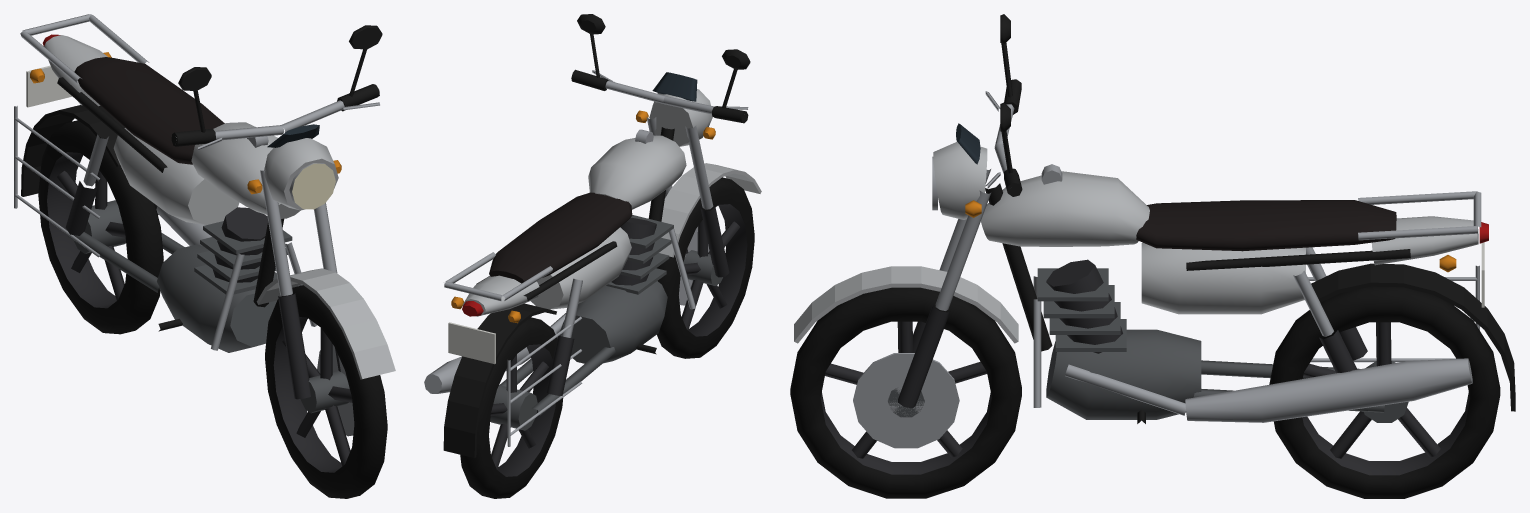
Rendered from commuter_bike.glb.
3 views of the same model, side by side, from view 1: azimuth 30°, elevation 25°; view 2: azimuth 150°, elevation 25°; view 3: azimuth 270°, elevation 25° (orthographic). The views are drawn at different scales.
Parts seen in each view (by area): view 1: commuter_bike; view 2: commuter_bike; view 3: commuter_bike.
Boxes of the visible parts, x1,y1,x2,y2 form: commuter_bike: (14,14,395,498); commuter_bike: (424,14,761,498); commuter_bike: (790,14,1515,498).
Size of the model in its own units: 0.67 by 1.28 by 1.94.
